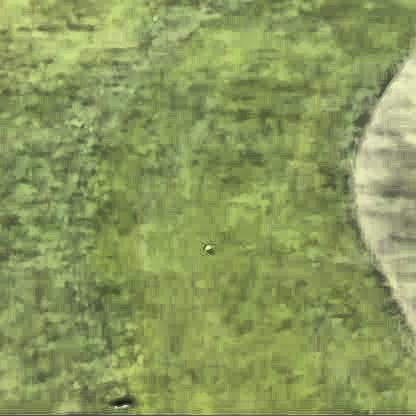golfball: (202, 243, 212, 250)
